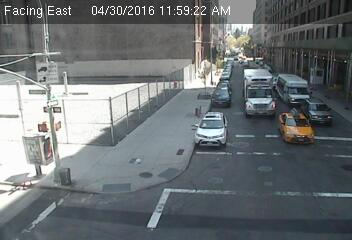neg: (283, 111, 304, 139), (187, 77, 204, 100), (172, 142, 189, 165), (150, 115, 166, 136), (314, 75, 329, 95), (43, 135, 57, 154)
